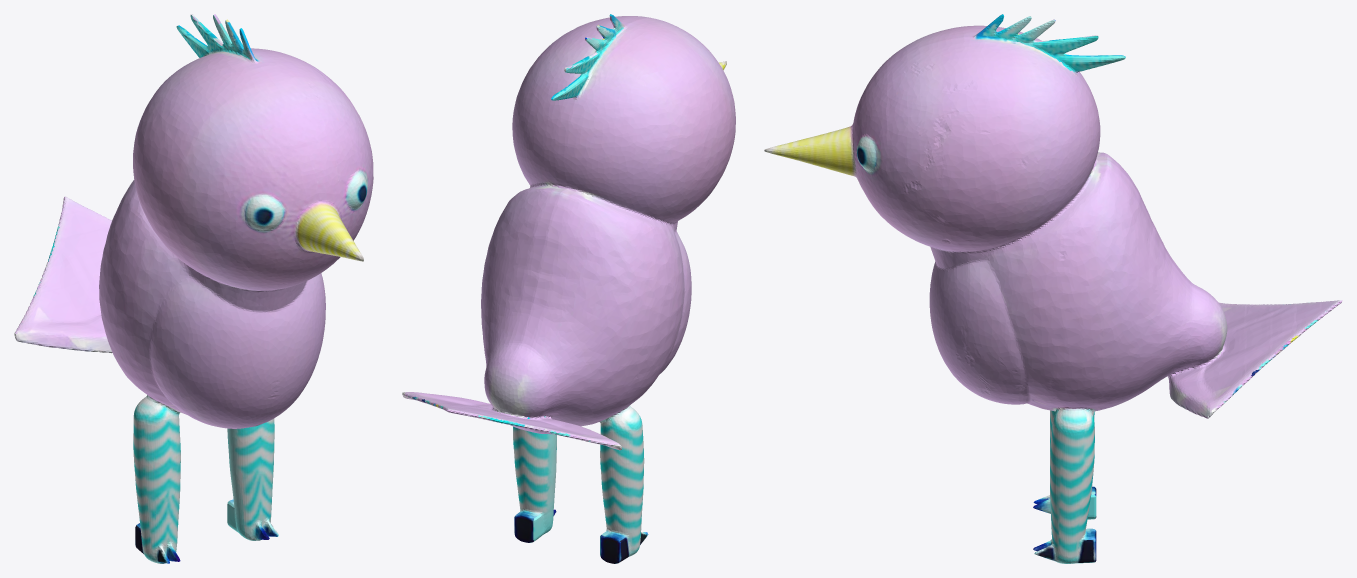
The model's file is creature-135.glb.
The picture shows the model from 3 angles, left to right: view 1: azimuth 30°, elevation 25°; view 2: azimuth 150°, elevation 25°; view 3: azimuth 270°, elevation 25°; orthographic projection. The views are drawn at different scales.
Visible parts, largest first — view 1: tmp_vu67eij.ply; view 2: tmp_vu67eij.ply; view 3: tmp_vu67eij.ply.
Part boxes in pixels (bbox=[...]): tmp_vu67eij.ply: bbox=[14, 14, 373, 563]; tmp_vu67eij.ply: bbox=[402, 14, 735, 563]; tmp_vu67eij.ply: bbox=[764, 14, 1342, 563].
Bounding box in the file's own units: 0.9002 × 1.99 × 1.99.
1 material, 1 textured.
